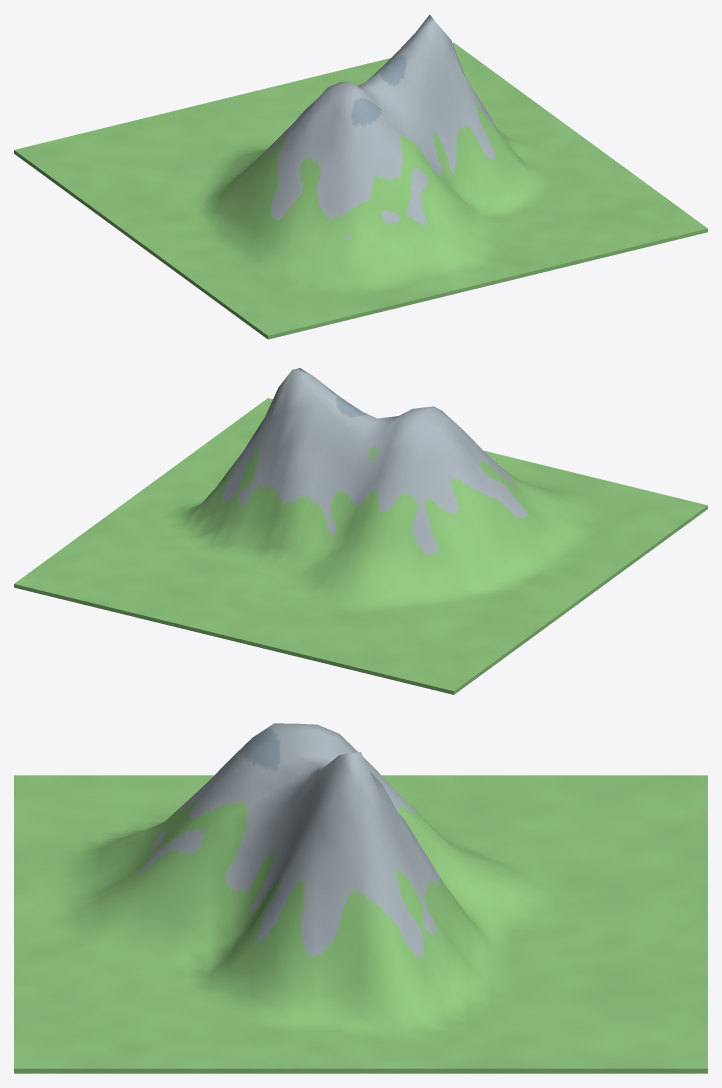
File: Grass_RockyMountains_11.obj
3 renders of one model, top to bottom at view 1: azimuth 30°, elevation 25°; view 2: azimuth 150°, elevation 25°; view 3: azimuth 270°, elevation 25°, orthographic. The views are drawn at different scales.
Size of the model in its own units: 10 by 3.51 by 10.
1 material, 1 textured.
